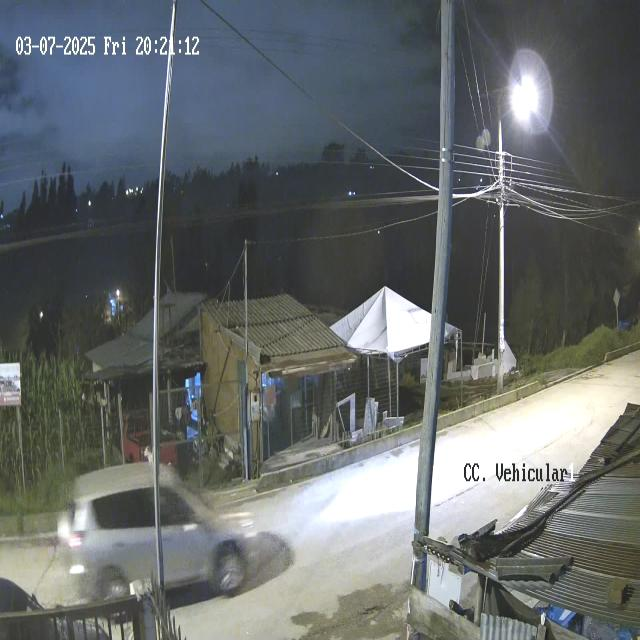SUV: (57, 458, 261, 598)
